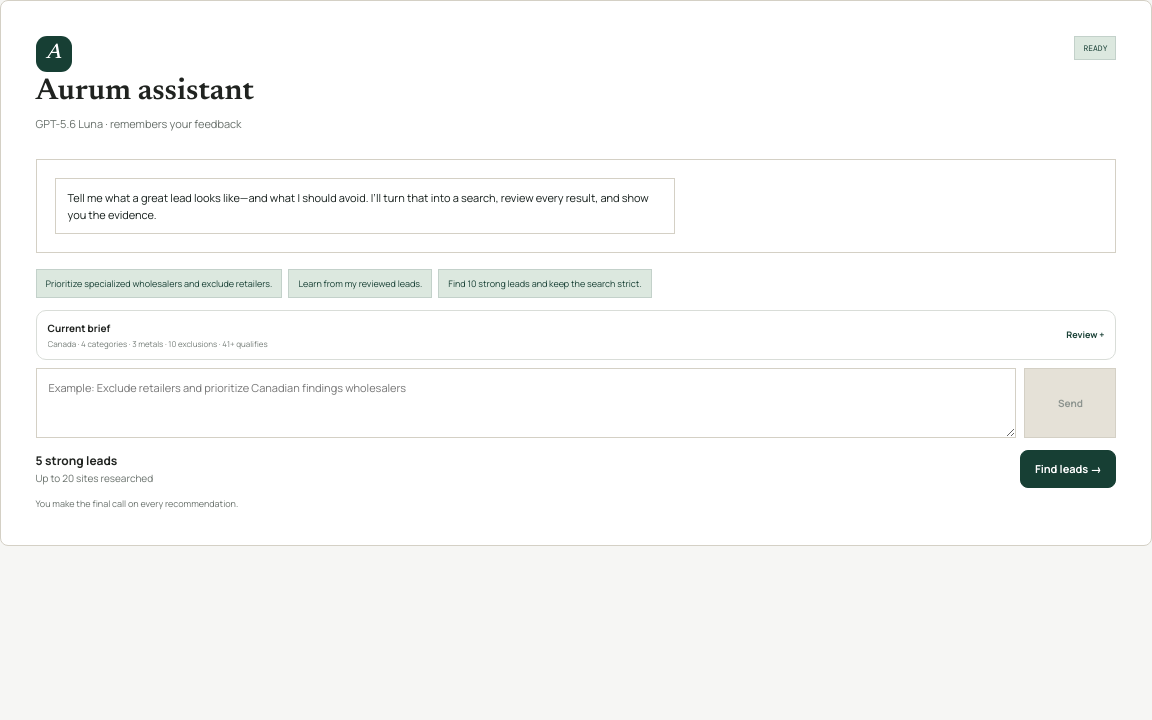
CriteriaAssistant › updates a mixed request before offering to start the search
Replace the text in the text box named "describe or change the lead criteria" with "Find 10 strong leads and keep the search strict": (526, 403) [36,368,1016,438]
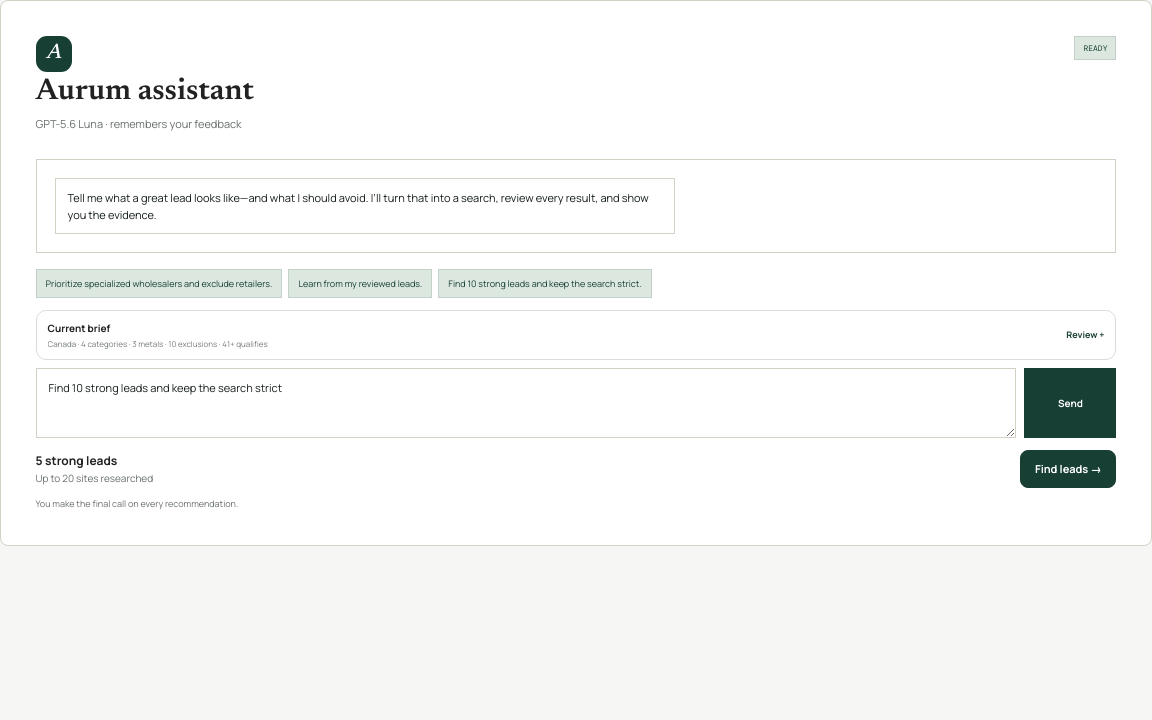
Click the button "Send": (1070, 403) [1024,368,1116,438]
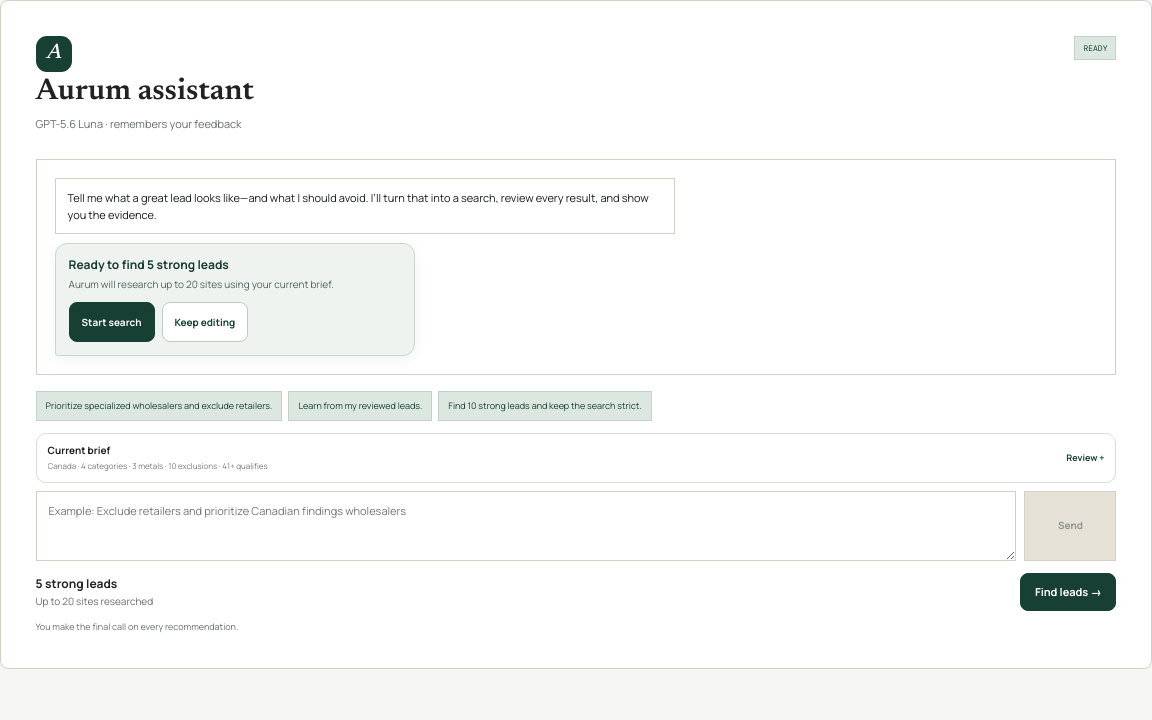
Result: the element named "confirm lead search" is shown at [54,243,414,356]
